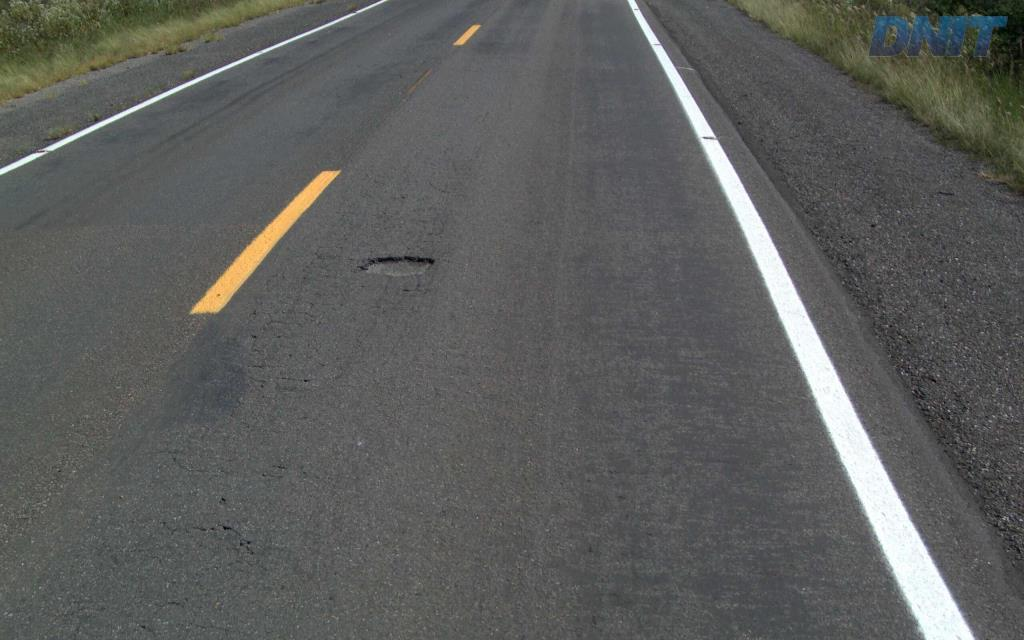pothole: (355, 248, 443, 284)
